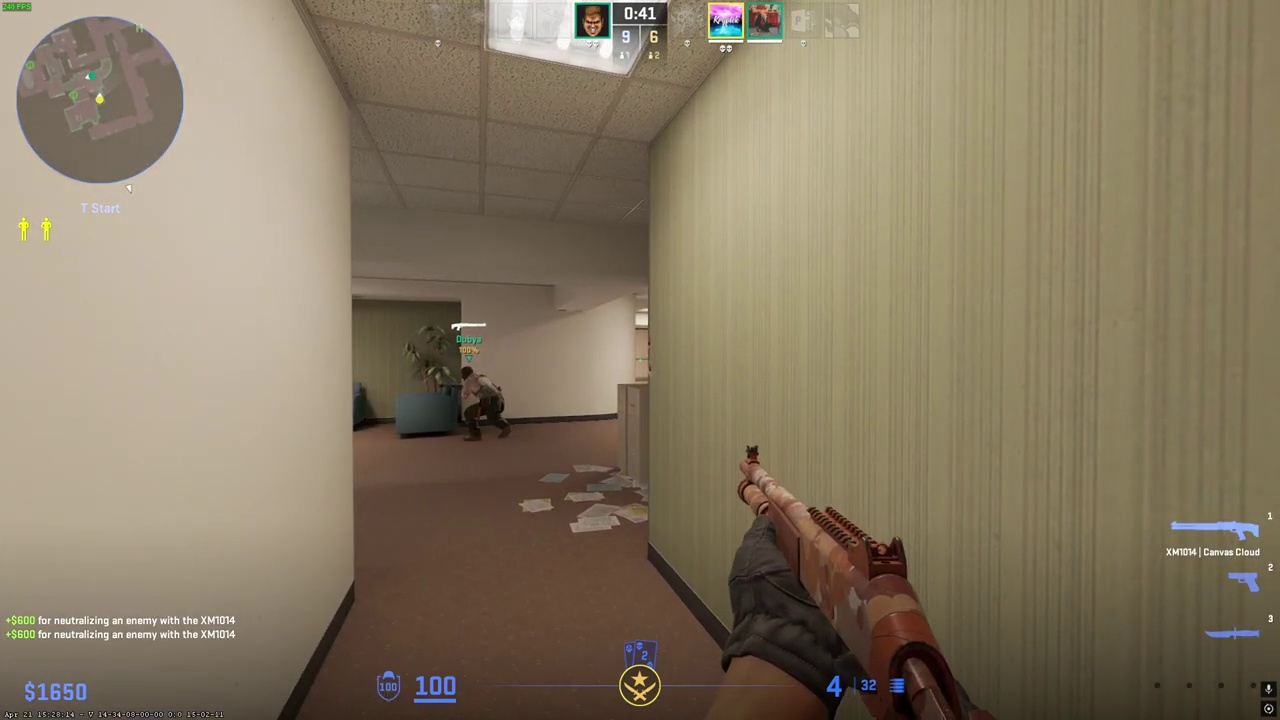Terrorist: (458, 365, 507, 442)
